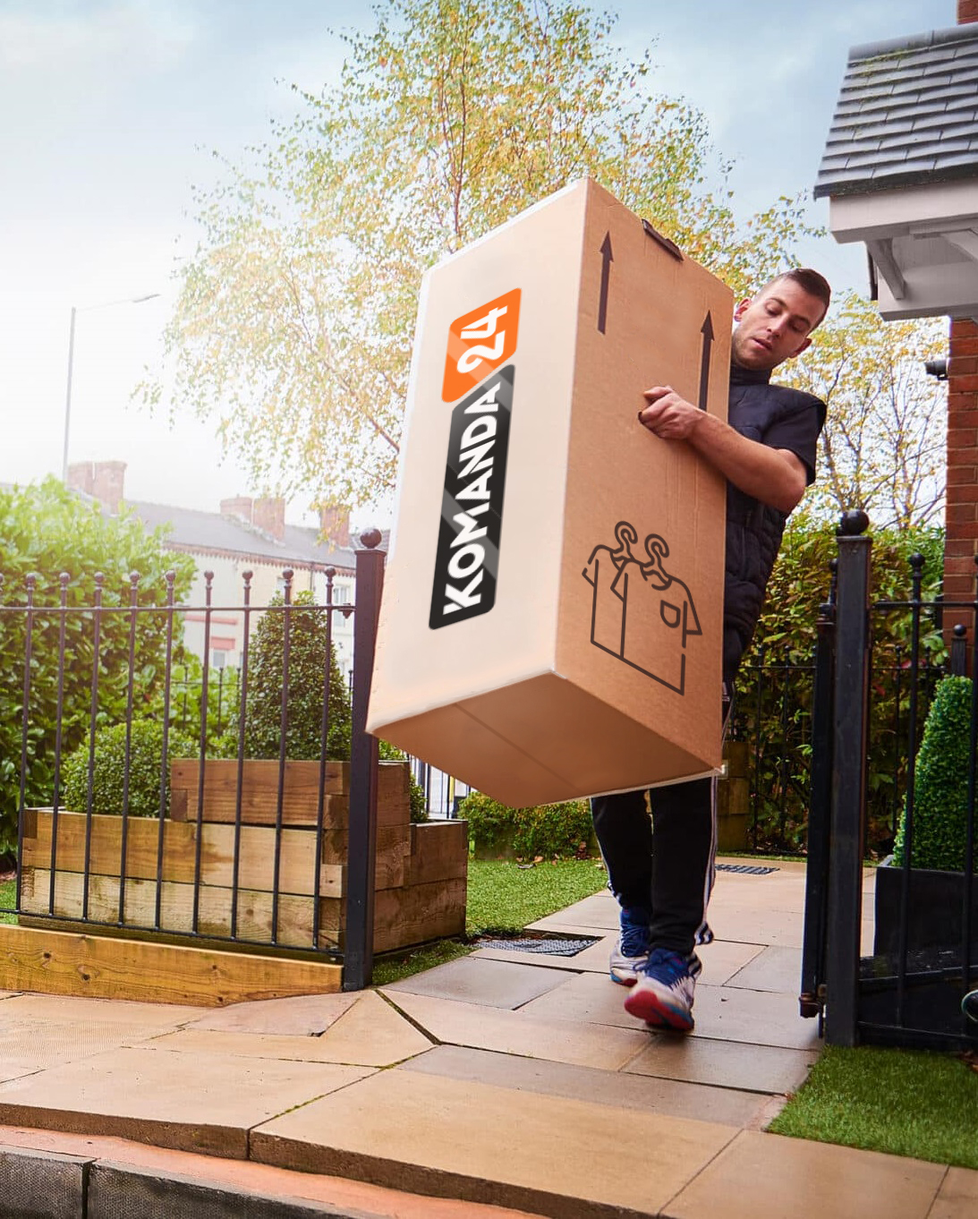DeliveryBox: (381, 215, 722, 810)
Person: (634, 236, 829, 1058)
